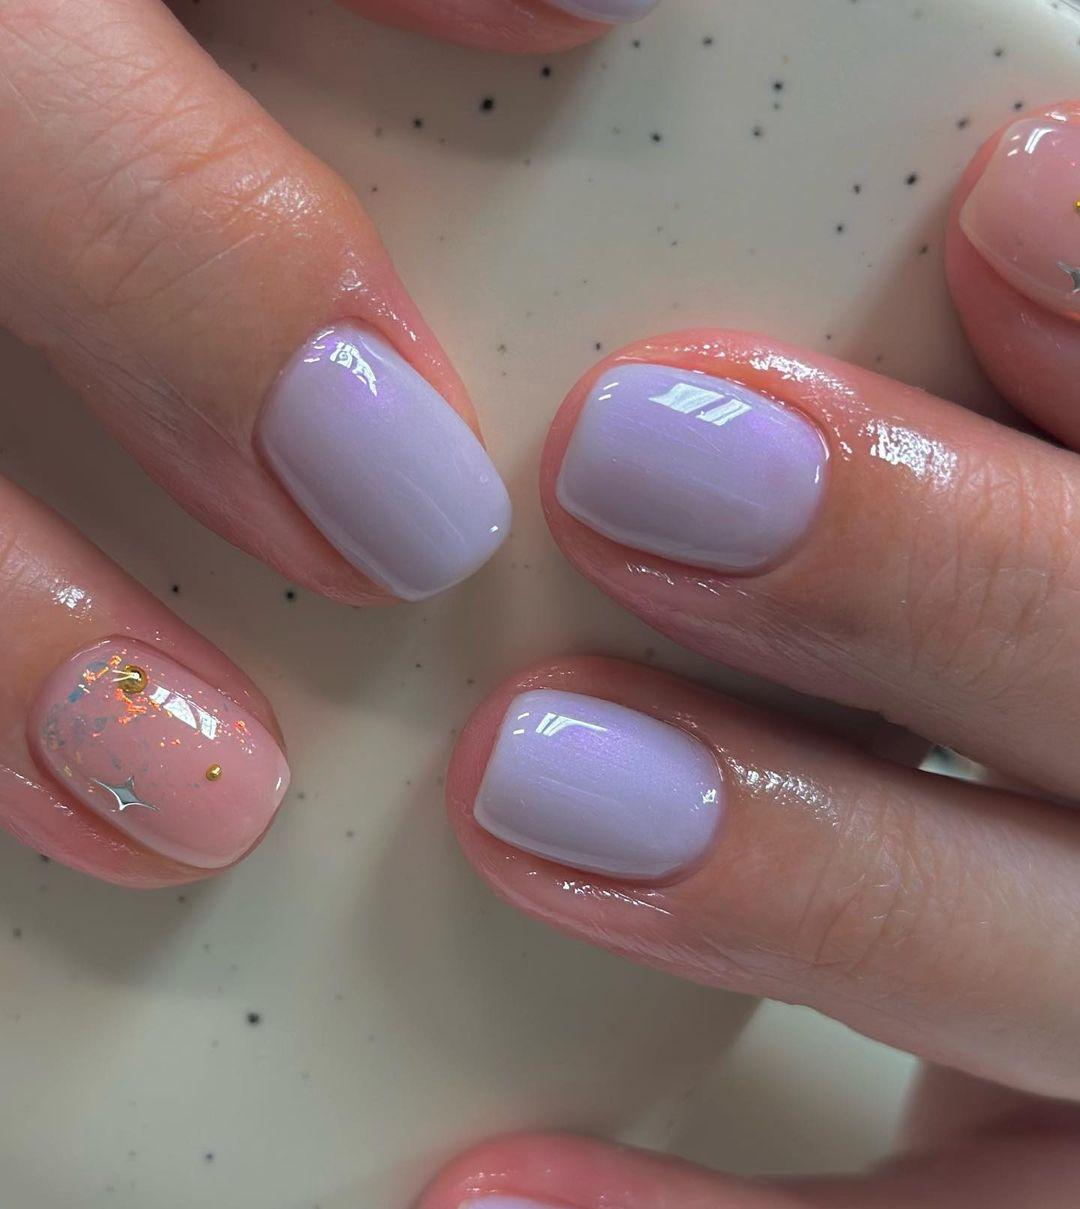nail: (538, 324, 1078, 798), (0, 471, 291, 890), (251, 314, 513, 603), (553, 358, 830, 577), (470, 684, 727, 886), (942, 95, 1078, 450)
